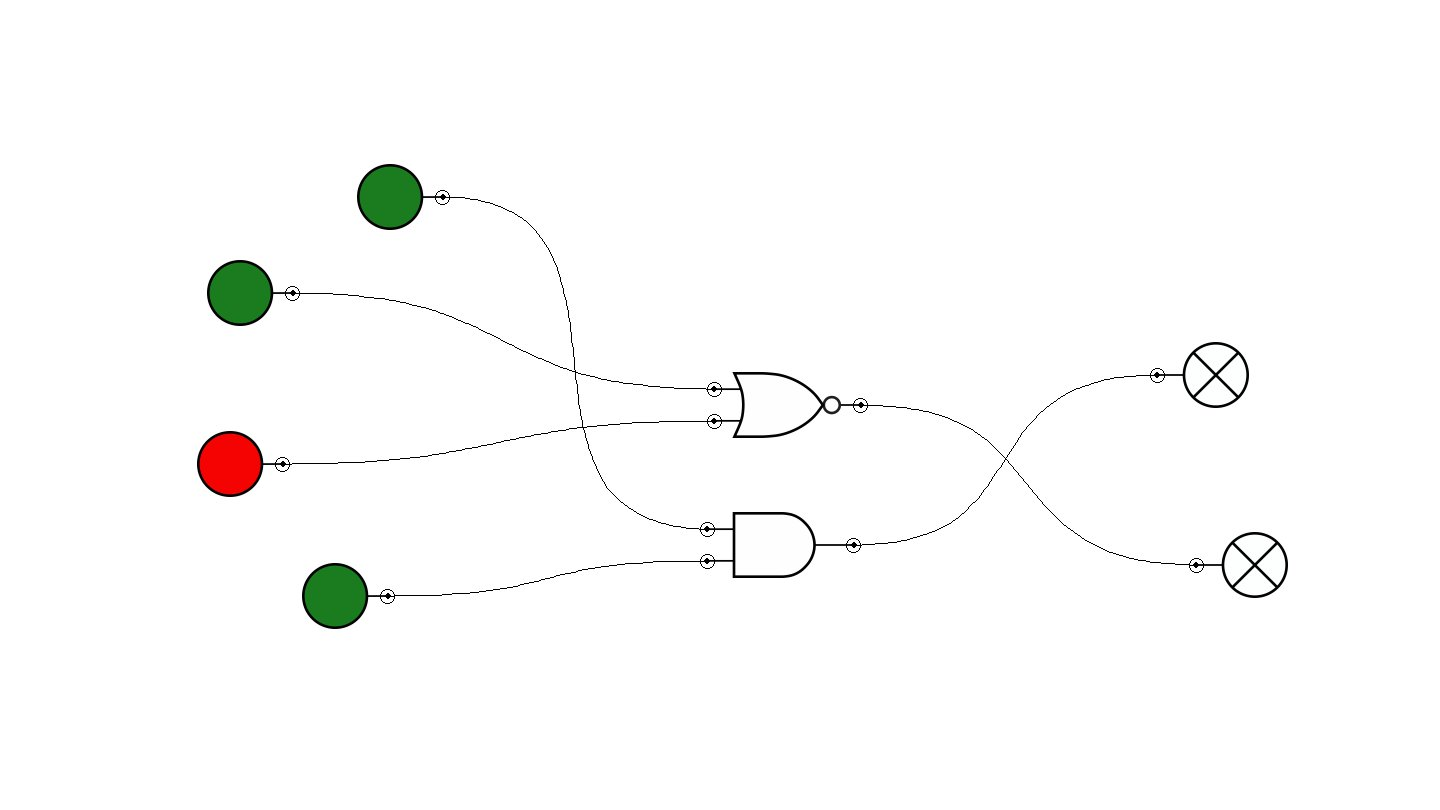and: (700, 512, 861, 578)
bulb: (1150, 342, 1249, 408), (1189, 532, 1288, 598)
nor: (707, 372, 868, 438)
switch_False: (197, 431, 290, 497)
switch_True: (302, 563, 395, 629), (357, 164, 450, 230), (207, 260, 300, 326)
